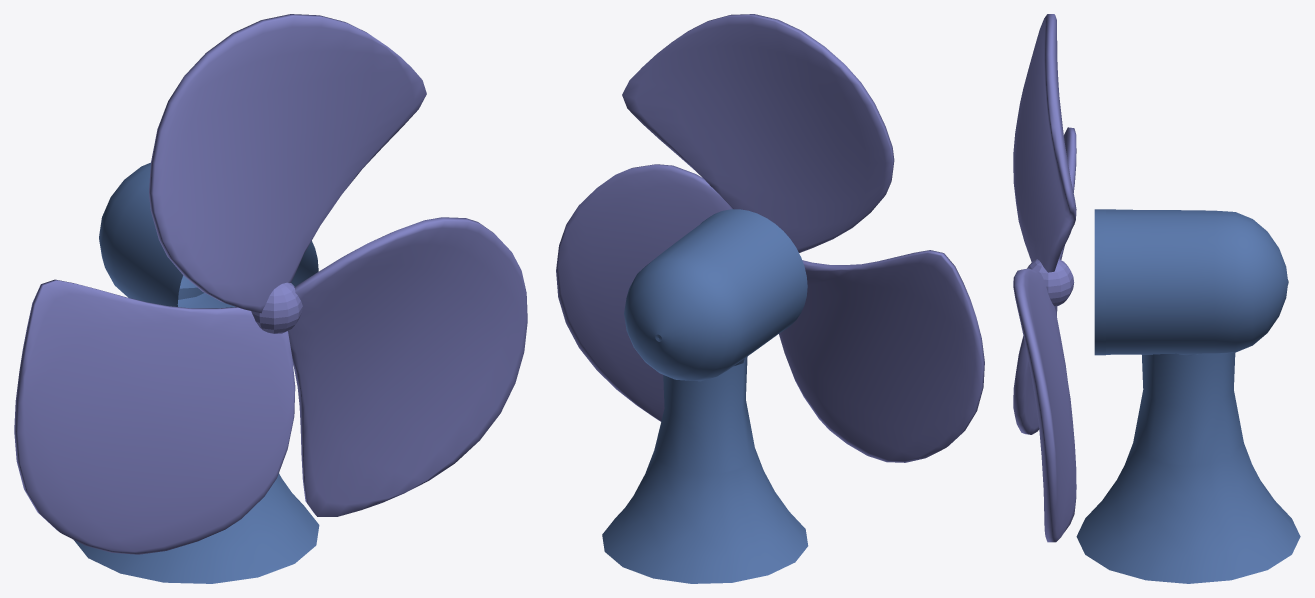
The model's file is fan_060.fbx.
3 renders of one model, left to right at view 1: azimuth 30°, elevation 25°; view 2: azimuth 150°, elevation 25°; view 3: azimuth 270°, elevation 25°, orthographic. The views are drawn at different scales.
Visible parts, largest first — view 1: blade, base; view 2: blade, base; view 3: base, blade.
Part boxes in pixels (<box>): blade: <box>14,14,527,554</box>; base: <box>74,162,319,583</box>; blade: <box>556,14,984,462</box>; base: <box>602,209,808,583</box>; base: <box>1076,209,1300,583</box>; blade: <box>1013,14,1076,542</box>.
Bounding box in the file's own units: 85.76 × 91.39 × 46.53.
